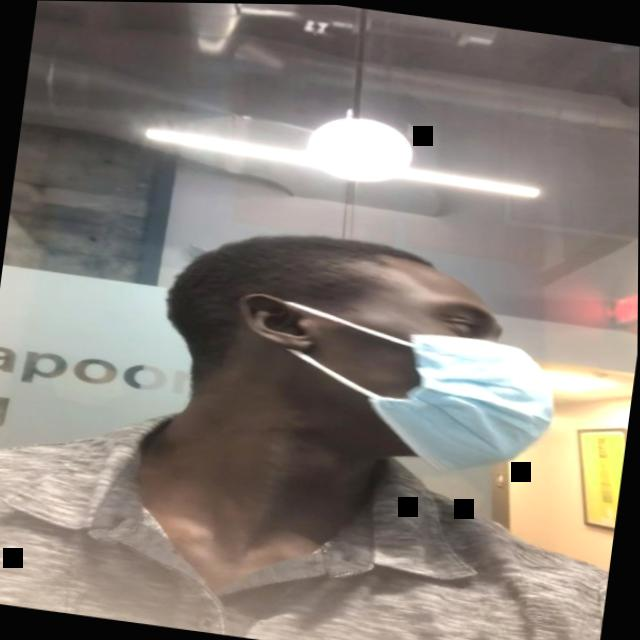Mask: (224, 239, 569, 479)
